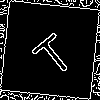T: (25, 25, 78, 80)
